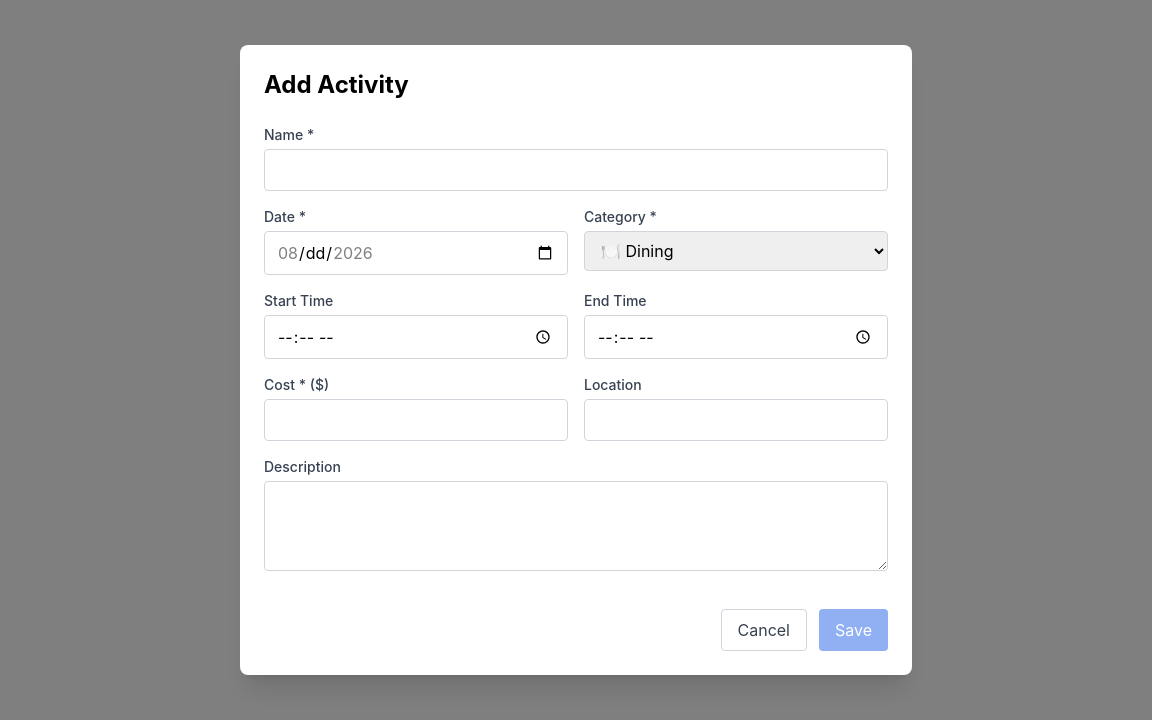
Test: ActivityFormModal › create mode › shows validation error when endTime is before startTime
In the field labelled "Name *": (576, 170) [264,149,888,191], type "Test Activity"
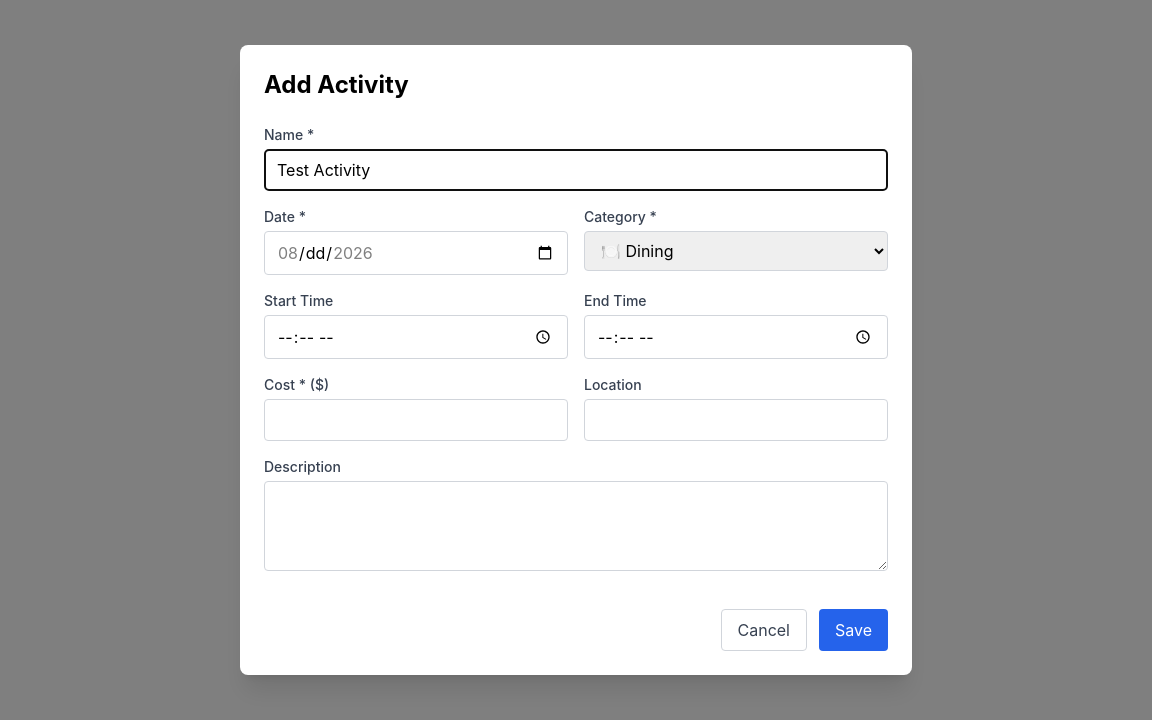
In the time field labelled "Start Time": (416, 337) [264,315,568,359], type "14:00"
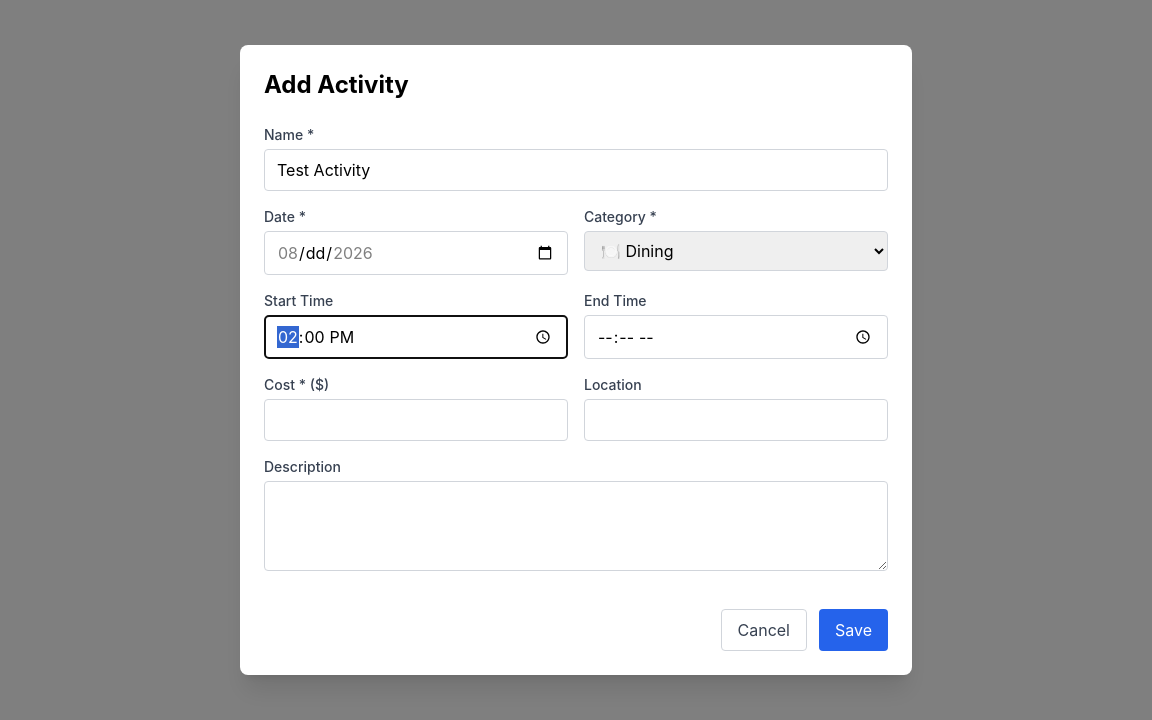
In the time field labelled "End Time": (736, 337) [584,315,888,359], type "12:00"
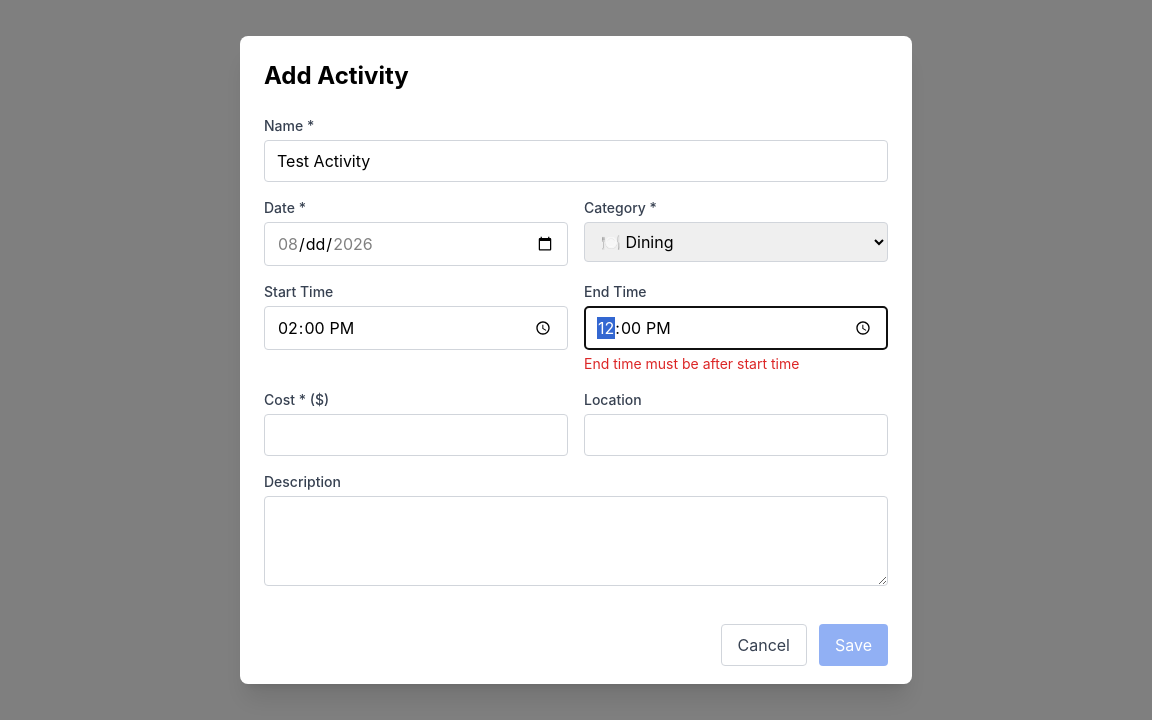
Now the text "End time must be after start time" is shown, box [584,355,799,372]
